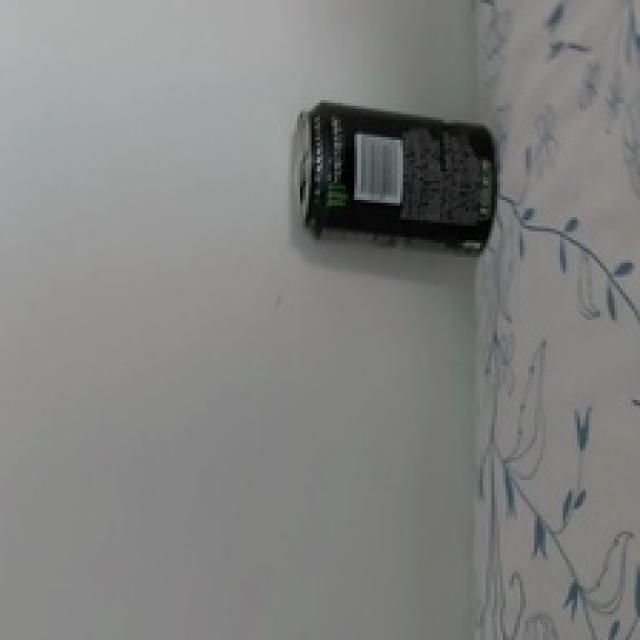recyclable: (288, 102, 498, 256)
